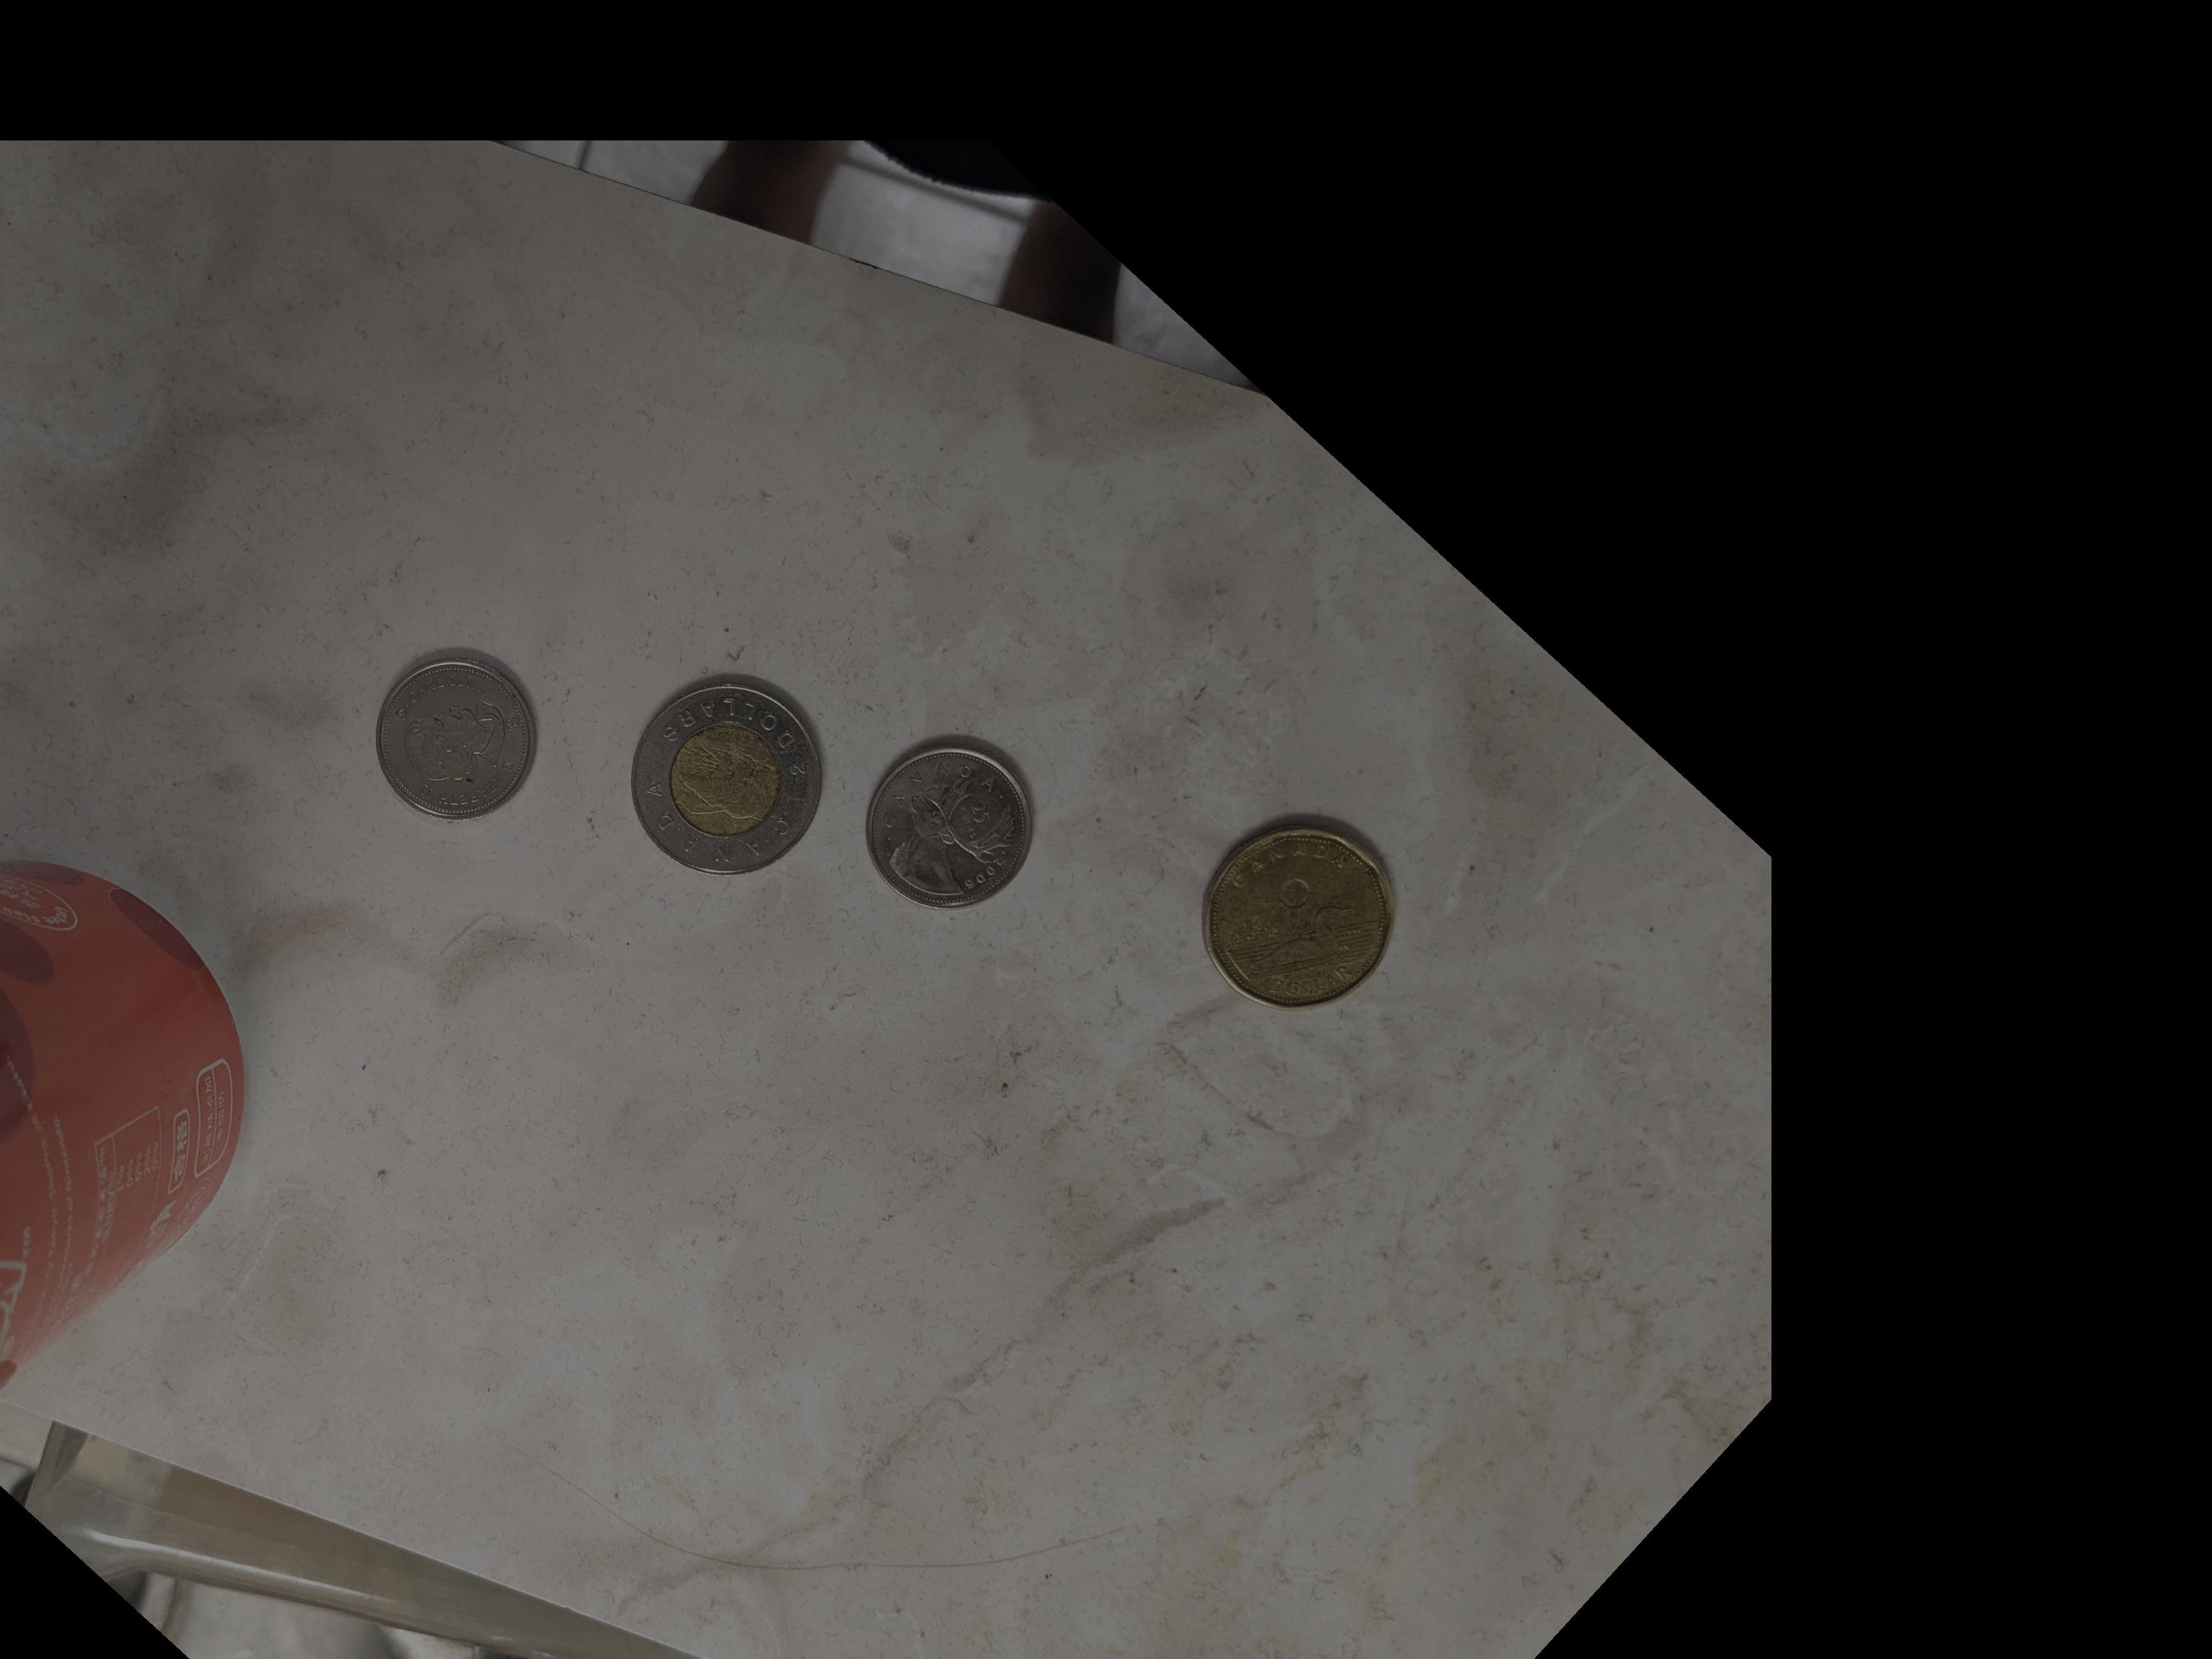loonie: (1204, 823, 1397, 1012)
quarter: (866, 746, 1038, 910), (374, 657, 545, 819)
toonie: (631, 680, 822, 873)
